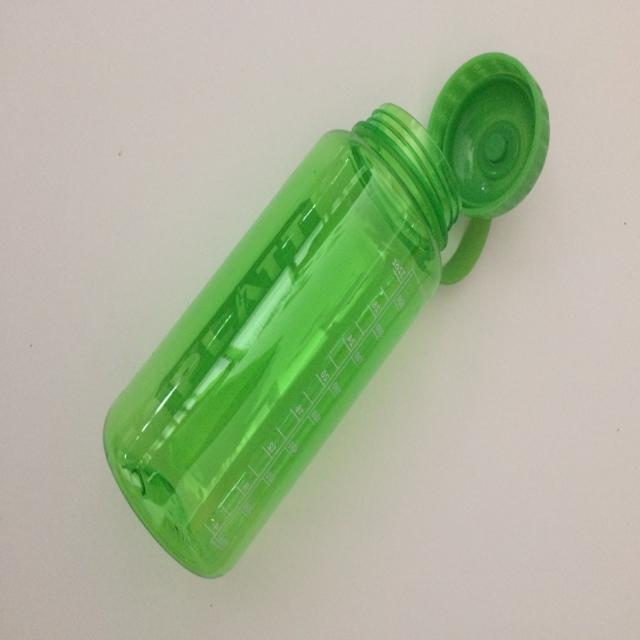plastic: (102, 50, 551, 579)
